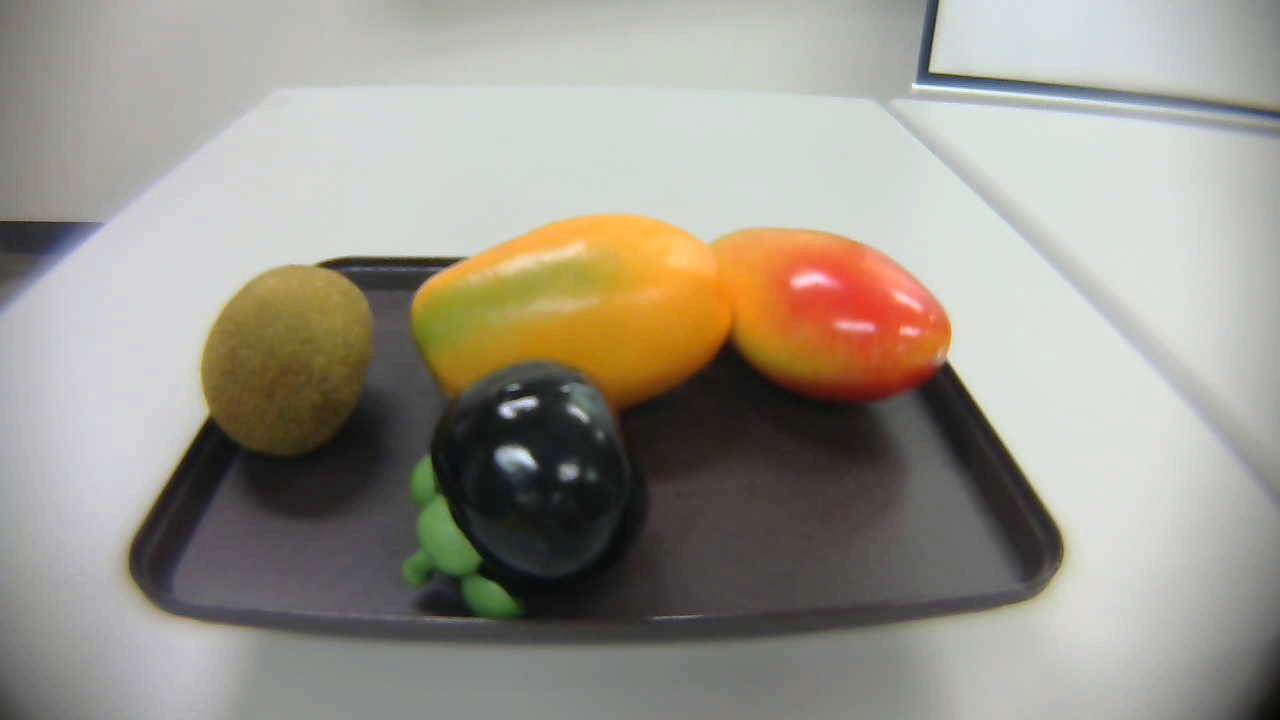kiwi fruit: (197, 251, 378, 456)
mangosteen: (394, 358, 656, 622)
papya: (390, 204, 747, 426)
red mango: (713, 226, 958, 424)
